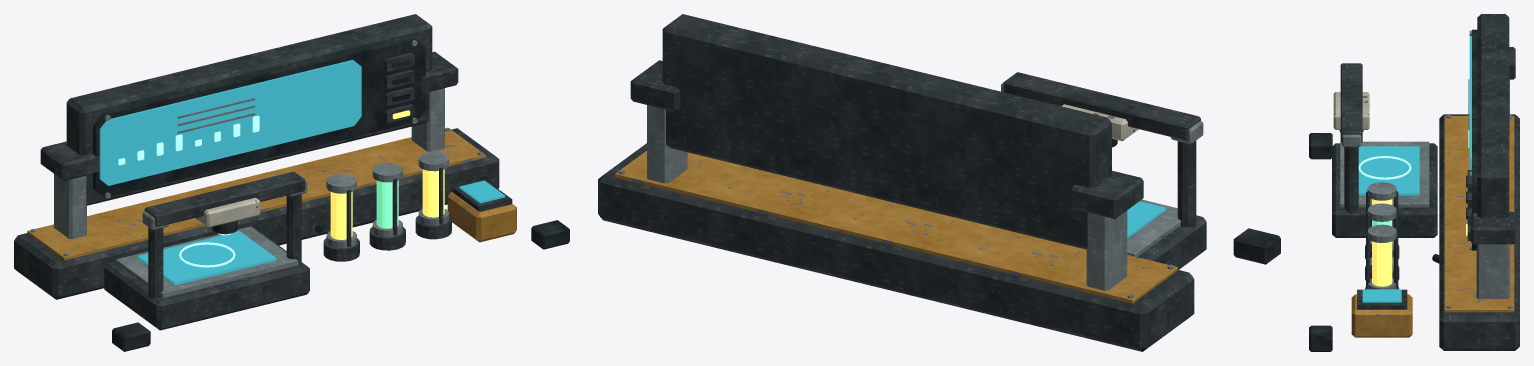
The model's file is research_tabletop_module.glb.
3 renders of one model, left to right at view 1: azimuth 30°, elevation 25°; view 2: azimuth 150°, elevation 25°; view 3: azimuth 270°, elevation 25°, orthographic. The views are drawn at different scales.
Parts seen in each view (by area): view 1: research_tabletop_module; view 2: research_tabletop_module; view 3: research_tabletop_module.
Boxes of the visible parts, x1,y1,x2,y2 form: research_tabletop_module: (14,14,569,351); research_tabletop_module: (598,14,1280,351); research_tabletop_module: (1309,14,1519,351).
Size of the model in its own units: 1.75 by 0.621 by 0.7575.
9 materials, 5 textured.
